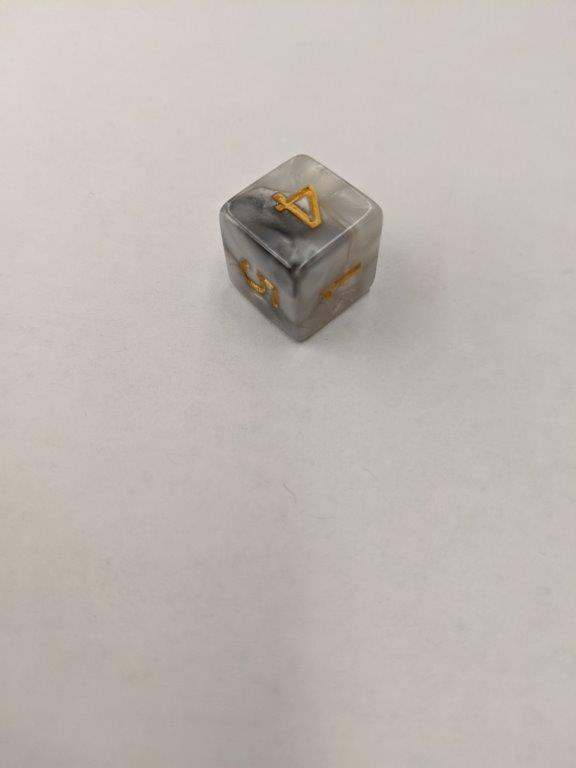d6-4: (218, 152, 383, 344)
